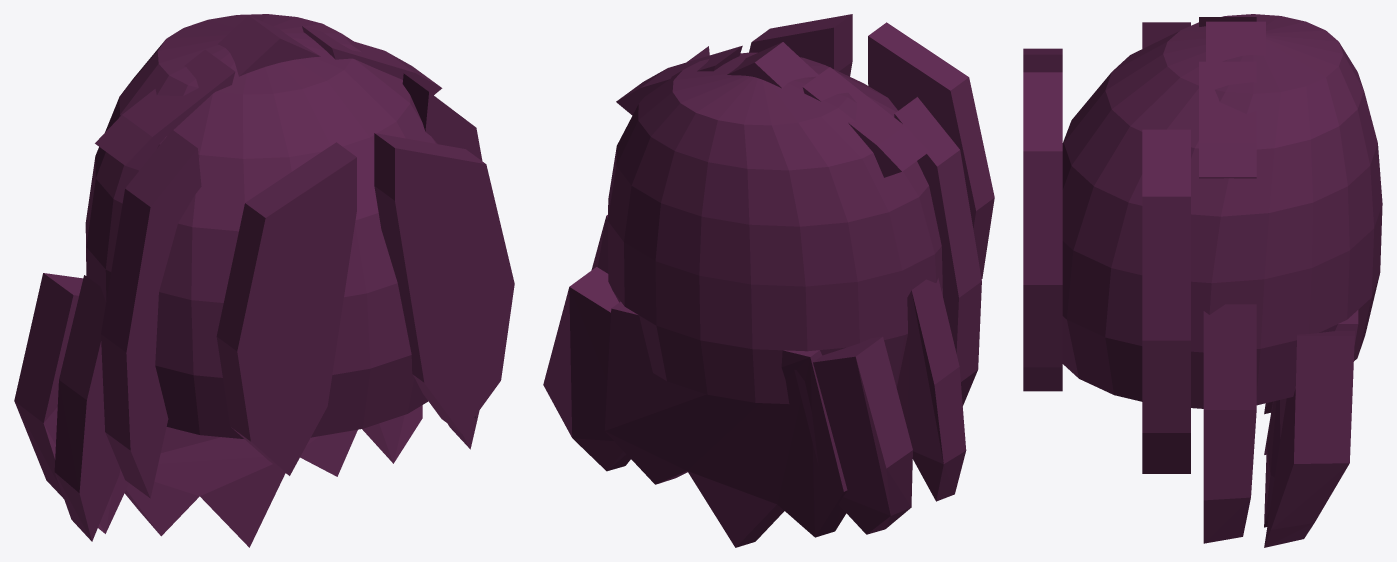
File: hair_girl_modern_shag_01.glb
3 renders of one model, left to right at view 1: azimuth 30°, elevation 25°; view 2: azimuth 150°, elevation 25°; view 3: azimuth 270°, elevation 25°, orthographic. The views are drawn at different scales.
Parts seen in each view (by area): view 1: Shag_Cap, Shag_Curtain_Bang_L, Shag_Curtain_Bang_R, Shag_Upper_Layer_L, Shag_Back_Layer_C, Shag_Mid_Layer_L, Shag_Back_Layer_L, Shag_Crown_L, Shag_Crown_C, Shag_Upper_Layer_R, Shag_Crown_R, Shag_Back_Layer_R; view 2: Shag_Cap, Shag_Back_Layer_C, Shag_Back_Layer_L, Shag_Mid_Layer_L, Shag_Curtain_Bang_L, Shag_Upper_Layer_L, Shag_Back_Layer_R, Shag_Crown_L, Shag_Curtain_Bang_R, Shag_Crown_C, Shag_Crown_R; view 3: Shag_Cap, Shag_Upper_Layer_R, Shag_Back_Layer_R, Shag_Curtain_Bang_R, Shag_Mid_Layer_R, Shag_Crown_R, Shag_Crown_C, Shag_Back_Layer_C, Shag_Curtain_Bang_L, Shag_Upper_Layer_L.
Boxes of the visible parts, box(x1,y1,x2,y2) form: Shag_Cap: box(85, 14, 437, 438); Shag_Curtain_Bang_L: box(216, 142, 356, 475); Shag_Curtain_Bang_R: box(374, 133, 514, 433); Shag_Upper_Layer_L: box(101, 130, 201, 498); Shag_Back_Layer_C: box(124, 427, 357, 547); Shag_Mid_Layer_L: box(54, 275, 120, 541); Shag_Back_Layer_L: box(14, 273, 128, 533); Shag_Crown_L: box(95, 49, 235, 170); Shag_Crown_C: box(218, 15, 320, 76); Shag_Upper_Layer_R: box(402, 73, 482, 418); Shag_Crown_R: box(302, 26, 442, 95); Shag_Back_Layer_R: box(362, 405, 422, 463); Shag_Cap: box(607, 52, 942, 403); Shag_Back_Layer_C: box(604, 301, 847, 547); Shag_Back_Layer_L: box(794, 336, 912, 534); Shag_Mid_Layer_L: box(896, 278, 966, 501); Shag_Curtain_Bang_L: box(868, 22, 994, 278); Shag_Upper_Layer_L: box(894, 97, 981, 406); Shag_Back_Layer_R: box(543, 267, 630, 471); Shag_Crown_L: box(802, 67, 929, 177); Shag_Curtain_Bang_R: box(749, 14, 852, 76); Shag_Crown_C: box(727, 42, 818, 88); Shag_Crown_R: box(616, 45, 742, 115); Shag_Cap: box(1062, 14, 1382, 408); Shag_Upper_Layer_R: box(1142, 129, 1190, 473); Shag_Back_Layer_R: box(1264, 331, 1354, 547); Shag_Curtain_Bang_R: box(1023, 72, 1062, 391); Shag_Mid_Layer_R: box(1203, 304, 1256, 543); Shag_Crown_R: box(1199, 61, 1256, 178); Shag_Crown_C: box(1206, 21, 1265, 61); Shag_Back_Layer_C: box(1264, 310, 1358, 527); Shag_Curtain_Bang_L: box(1023, 48, 1062, 72); Shag_Upper_Layer_L: box(1142, 22, 1190, 48).
Size of the model in its own units: 0.384 by 0.4835 by 0.311.
